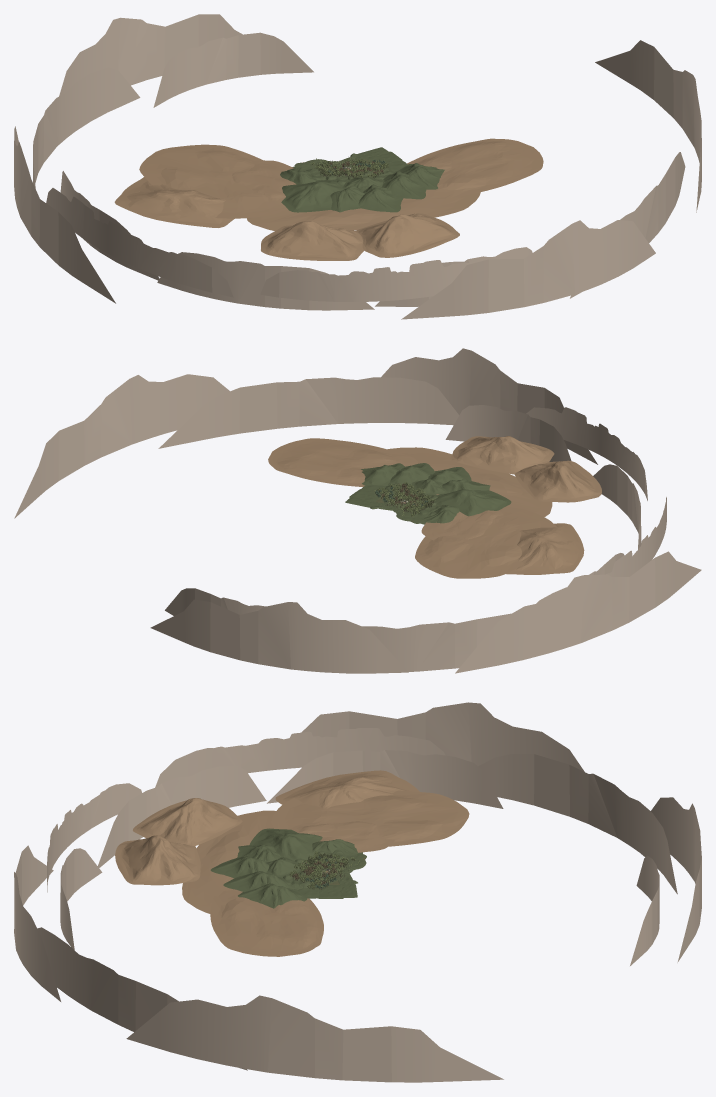
File: Thief_camp.glb
3 views of the same model, one above another, from view 1: azimuth 30°, elevation 25°; view 2: azimuth 150°, elevation 25°; view 3: azimuth 270°, elevation 25° (orthographic). The views are drawn at different scales.
Parts seen in each view (by area): view 1: SM_Env_BackgroundCard_03__1_, SM_Env_BackgroundCard_03, SM_Env_Mound_Large_02__60_, SM_Env_BackgroundCard_02__1_, SM_Env_BackgroundCard_01, SM_Env_BackgroundCard_02__3_, SM_Env_Mound_Large_02__59_, SM_Env_BackgroundCard_03__2_, SM_Env_BackgroundCard_01__6_, SM_Env_BackgroundCard_03__3_, SM_Env_BackgroundCard_01__4_, SM_Env_Mound_Hill_02__15_ (+12 smaller); view 2: SM_Env_BackgroundCard_01__5_, SM_Env_BackgroundCard_03, SM_Env_BackgroundCard_03__3_, SM_Env_BackgroundCard_03__2_, SM_Env_BackgroundCard_03__1_, SM_Env_Mound_Large_02__60_, SM_Env_Mound_Large_02__59_, SM_Env_BackgroundCard_01__6_, SM_Env_BackgroundCard_01__1_, SM_Env_BackgroundCard_02__1_, SM_Env_Mound_Hill_02__15_, SM_Env_Mound_Hill_01__10_ (+9 smaller); view 3: SM_Env_BackgroundCard_03__2_, SM_Env_BackgroundCard_01__6_, SM_Env_BackgroundCard_03__3_, SM_Env_Mound_Large_02__60_, SM_Env_BackgroundCard_02__3_, SM_Env_BackgroundCard_01__3_, SM_Env_Mound_Large_02__59_, SM_Env_BackgroundCard_01__5_, SM_Env_BackgroundCard_01__4_, SM_Env_Mound_Hill_01__11_, SM_Env_Mound_Large_02__61_, SM_Env_Mound_Hill_01__10_ (+11 smaller).
Boxes of the visible parts, <box> form: SM_Env_BackgroundCard_03__1_: <box>401,220,655,319</box>; SM_Env_BackgroundCard_03: <box>59,14,242,96</box>; SM_Env_Mound_Large_02__60_: <box>139,144,287,218</box>; SM_Env_BackgroundCard_02__1_: <box>260,260,474,301</box>; SM_Env_BackgroundCard_01: <box>153,32,313,107</box>; SM_Env_BackgroundCard_02__3_: <box>46,188,233,297</box>; SM_Env_Mound_Large_02__59_: <box>407,138,543,198</box>; SM_Env_BackgroundCard_03__2_: <box>595,40,701,212</box>; SM_Env_BackgroundCard_01__6_: <box>33,67,140,188</box>; SM_Env_BackgroundCard_03__3_: <box>14,126,115,303</box>; SM_Env_BackgroundCard_01__4_: <box>157,252,374,310</box>; SM_Env_Mound_Hill_02__15_: <box>114,177,234,227</box>; SM_Env_BackgroundCard_01__5_: <box>158,377,459,448</box>; SM_Env_BackgroundCard_03: <box>150,599,408,673</box>; SM_Env_BackgroundCard_03__3_: <box>455,551,701,673</box>; SM_Env_BackgroundCard_03__2_: <box>14,374,229,518</box>; SM_Env_BackgroundCard_03__1_: <box>381,348,597,464</box>; SM_Env_Mound_Large_02__60_: <box>415,506,556,578</box>; SM_Env_Mound_Large_02__59_: <box>268,438,417,486</box>; SM_Env_BackgroundCard_01__6_: <box>362,613,511,671</box>; SM_Env_BackgroundCard_01__1_: <box>445,405,571,461</box>; SM_Env_BackgroundCard_02__1_: <box>526,407,647,500</box>; SM_Env_Mound_Hill_02__15_: <box>506,523,584,574</box>; SM_Env_Mound_Hill_01__10_: <box>514,460,601,502</box>; SM_Env_BackgroundCard_03__2_: <box>126,995,503,1082</box>; SM_Env_BackgroundCard_01__6_: <box>478,754,677,894</box>; SM_Env_BackgroundCard_03__3_: <box>301,702,584,771</box>; SM_Env_Mound_Large_02__60_: <box>271,790,469,846</box>; SM_Env_BackgroundCard_02__3_: <box>155,728,445,787</box>; SM_Env_BackgroundCard_01__3_: <box>267,750,503,808</box>; SM_Env_Mound_Large_02__59_: <box>210,890,323,956</box>; SM_Env_BackgroundCard_01__5_: <box>37,927,247,1070</box>; SM_Env_BackgroundCard_01__4_: <box>98,765,266,867</box>; SM_Env_Mound_Hill_01__11_: <box>115,835,200,885</box>; SM_Env_Mound_Large_02__61_: <box>182,810,275,913</box>; SM_Env_Mound_Hill_01__10_: <box>133,798,242,845</box>.
Bounding box in the file's own units: 1474 × 181 × 1359.
9 materials, 6 textured.
